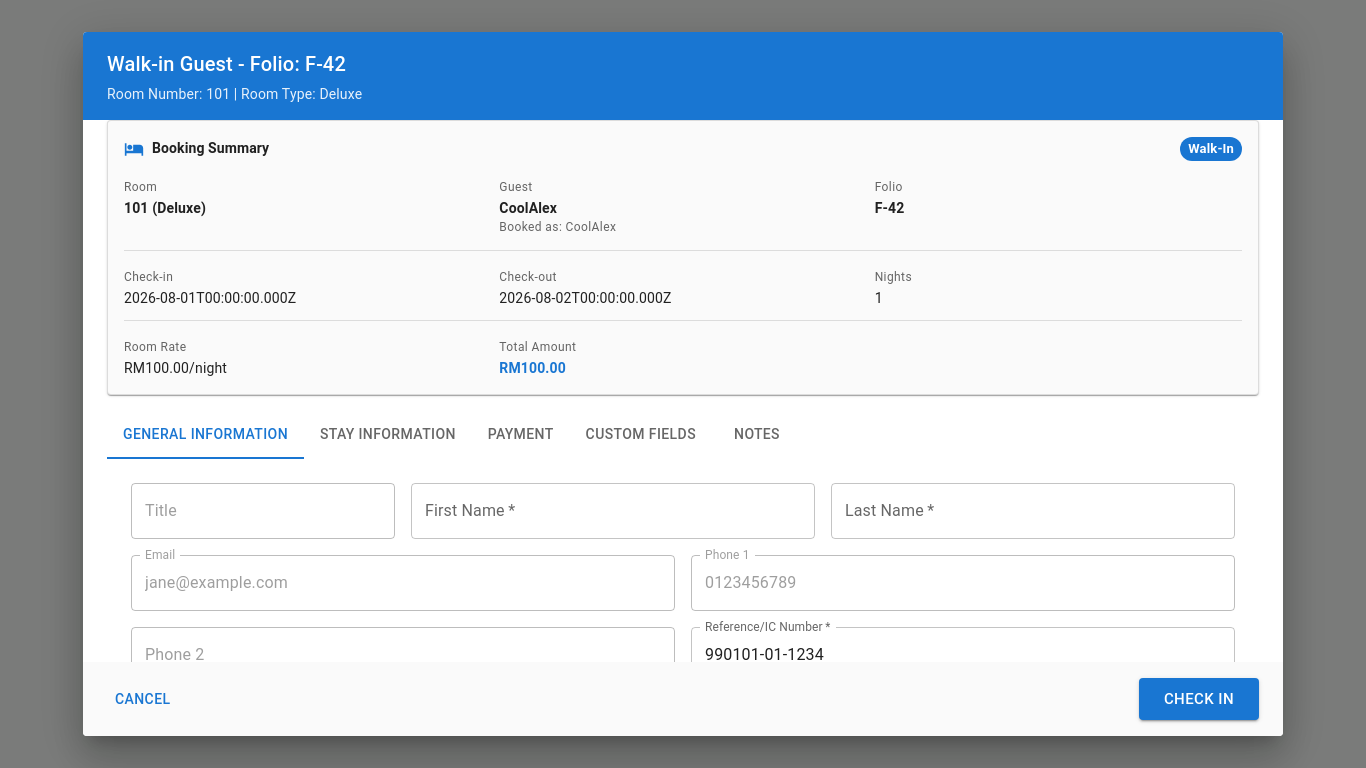
Test: EnhancedCheckInModal legal name collection › blocks check-in until both halves of the legal name are supplied
The width and height of the screenshot is (1366, 768).
Click the button "Check In" at (1199, 699), box [1139,678,1259,720]
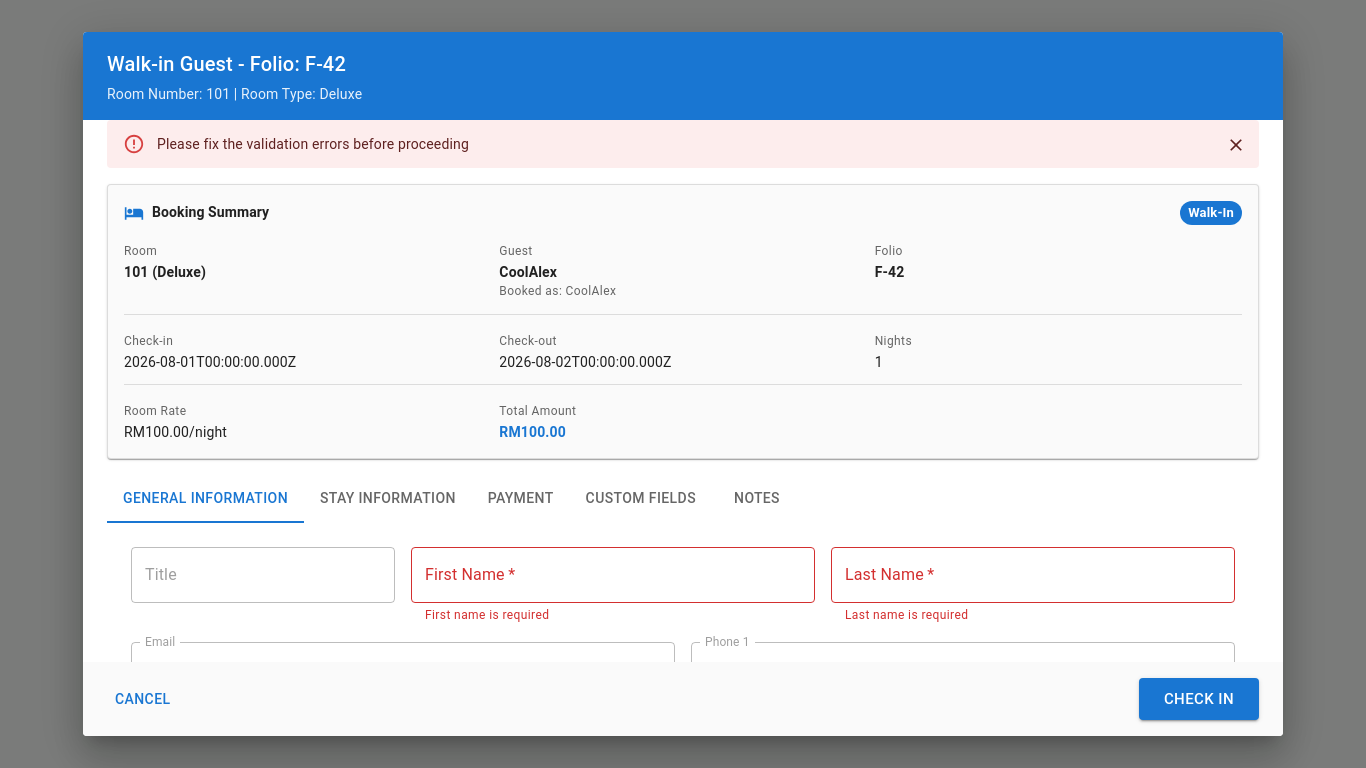
Now the text "First name is required" is shown, box [425,608,549,622]
Now the text "Last name is required" is shown, box [845,608,968,622]
